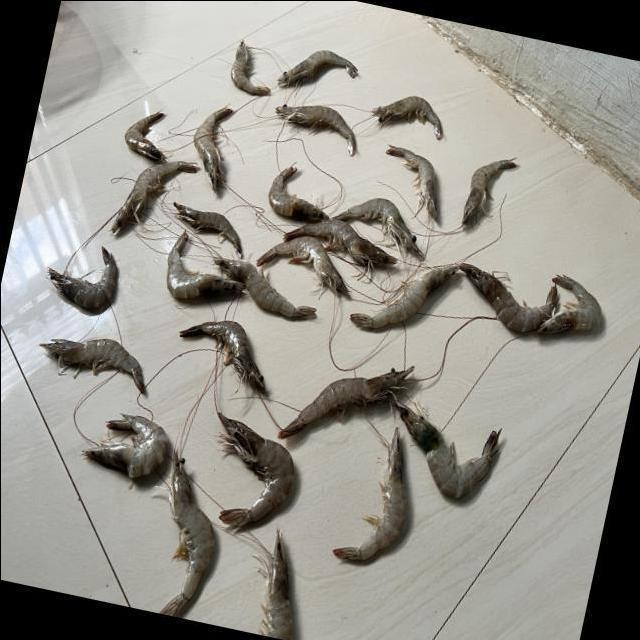shrimp: (394, 400, 501, 498), (278, 365, 415, 438), (333, 427, 407, 561), (159, 450, 214, 616), (218, 412, 294, 527), (350, 264, 459, 328), (460, 263, 559, 332), (213, 256, 316, 317), (110, 160, 197, 232), (179, 320, 265, 392), (39, 338, 144, 393), (256, 235, 349, 294), (82, 415, 167, 479), (166, 230, 244, 298), (335, 197, 424, 256), (283, 218, 398, 263), (47, 246, 116, 307), (276, 103, 356, 155), (536, 274, 602, 334), (386, 144, 438, 220), (173, 201, 242, 257), (259, 528, 293, 640), (462, 157, 517, 225), (268, 164, 329, 220), (193, 106, 232, 192), (372, 94, 443, 139), (278, 49, 358, 84), (230, 38, 270, 94), (124, 110, 165, 161)
